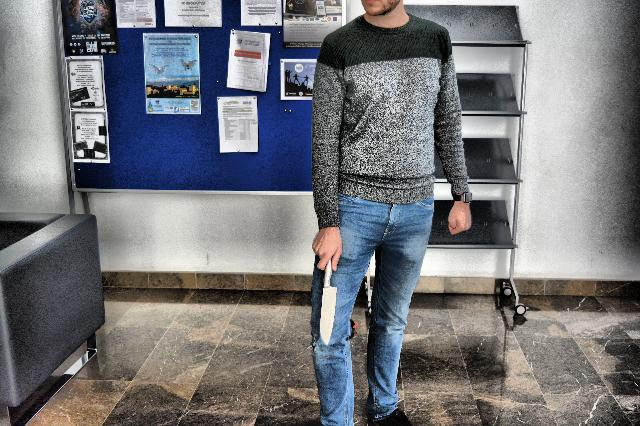knife: (316, 251, 339, 349)
